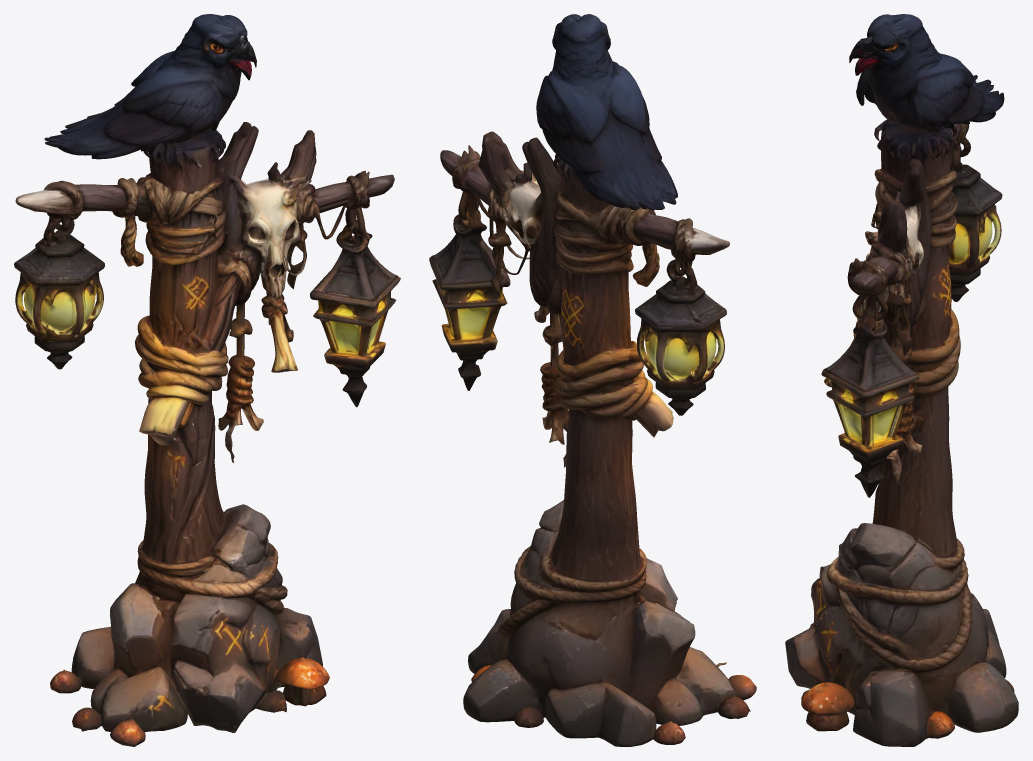
Rendered from pixellabs-fantasy-signpost-3561.glb.
3 views of the same model, side by side, from view 1: azimuth 30°, elevation 25°; view 2: azimuth 150°, elevation 25°; view 3: azimuth 270°, elevation 25° (orthographic).
Parts seen in each view (by area): view 1: material; view 2: material; view 3: material.
Part boxes in pixels (<box>): material: <box>14,14,400,746</box>; material: <box>429,14,756,746</box>; material: <box>785,14,1018,746</box>.
Bounding box in the file's own units: 0.5869 × 1.1 × 0.3414.
Materials: 1 (1 with a texture image).
